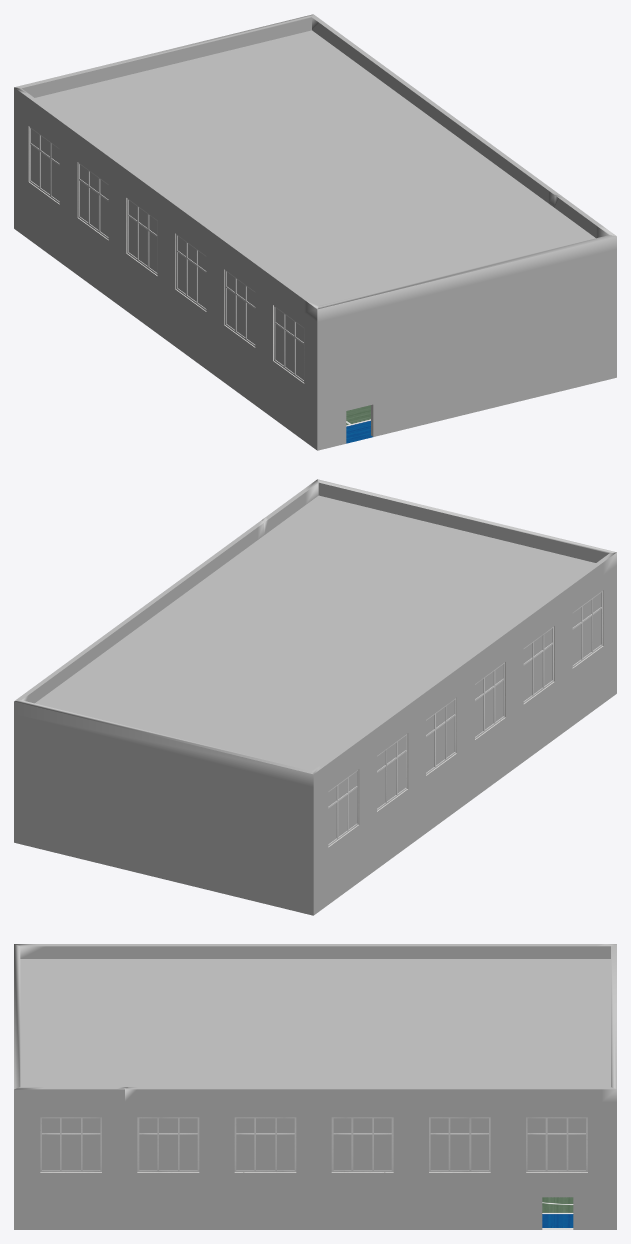
Rendered from SportGym.FBX.
3 renders of one model, top to bottom at view 1: azimuth 30°, elevation 25°; view 2: azimuth 150°, elevation 25°; view 3: azimuth 270°, elevation 25°, orthographic.
Visible parts, largest first — view 1: Gym, GlassLeft, WindowLeft; view 2: Gym, GlassLeft, WindowLeft; view 3: Gym, GlassRight, WindowWoodRight.
Boxes of the visible parts, x1,y1,x2,y2 form: Gym: (14, 14, 616, 450); GlassLeft: (31, 129, 303, 379); WindowLeft: (29, 127, 304, 382); Gym: (14, 479, 616, 915); GlassLeft: (328, 593, 601, 844); WindowLeft: (328, 591, 602, 846); Gym: (14, 944, 616, 1229); GlassRight: (42, 1118, 585, 1170); WindowWoodRight: (40, 1117, 587, 1172).
Size of the model in its own units: 19458 by 8776 by 34143.
